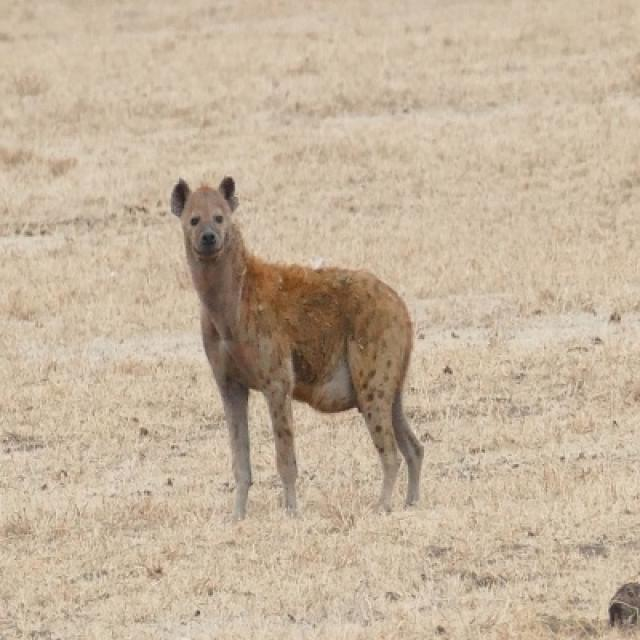hyena: (170, 176, 422, 515)
